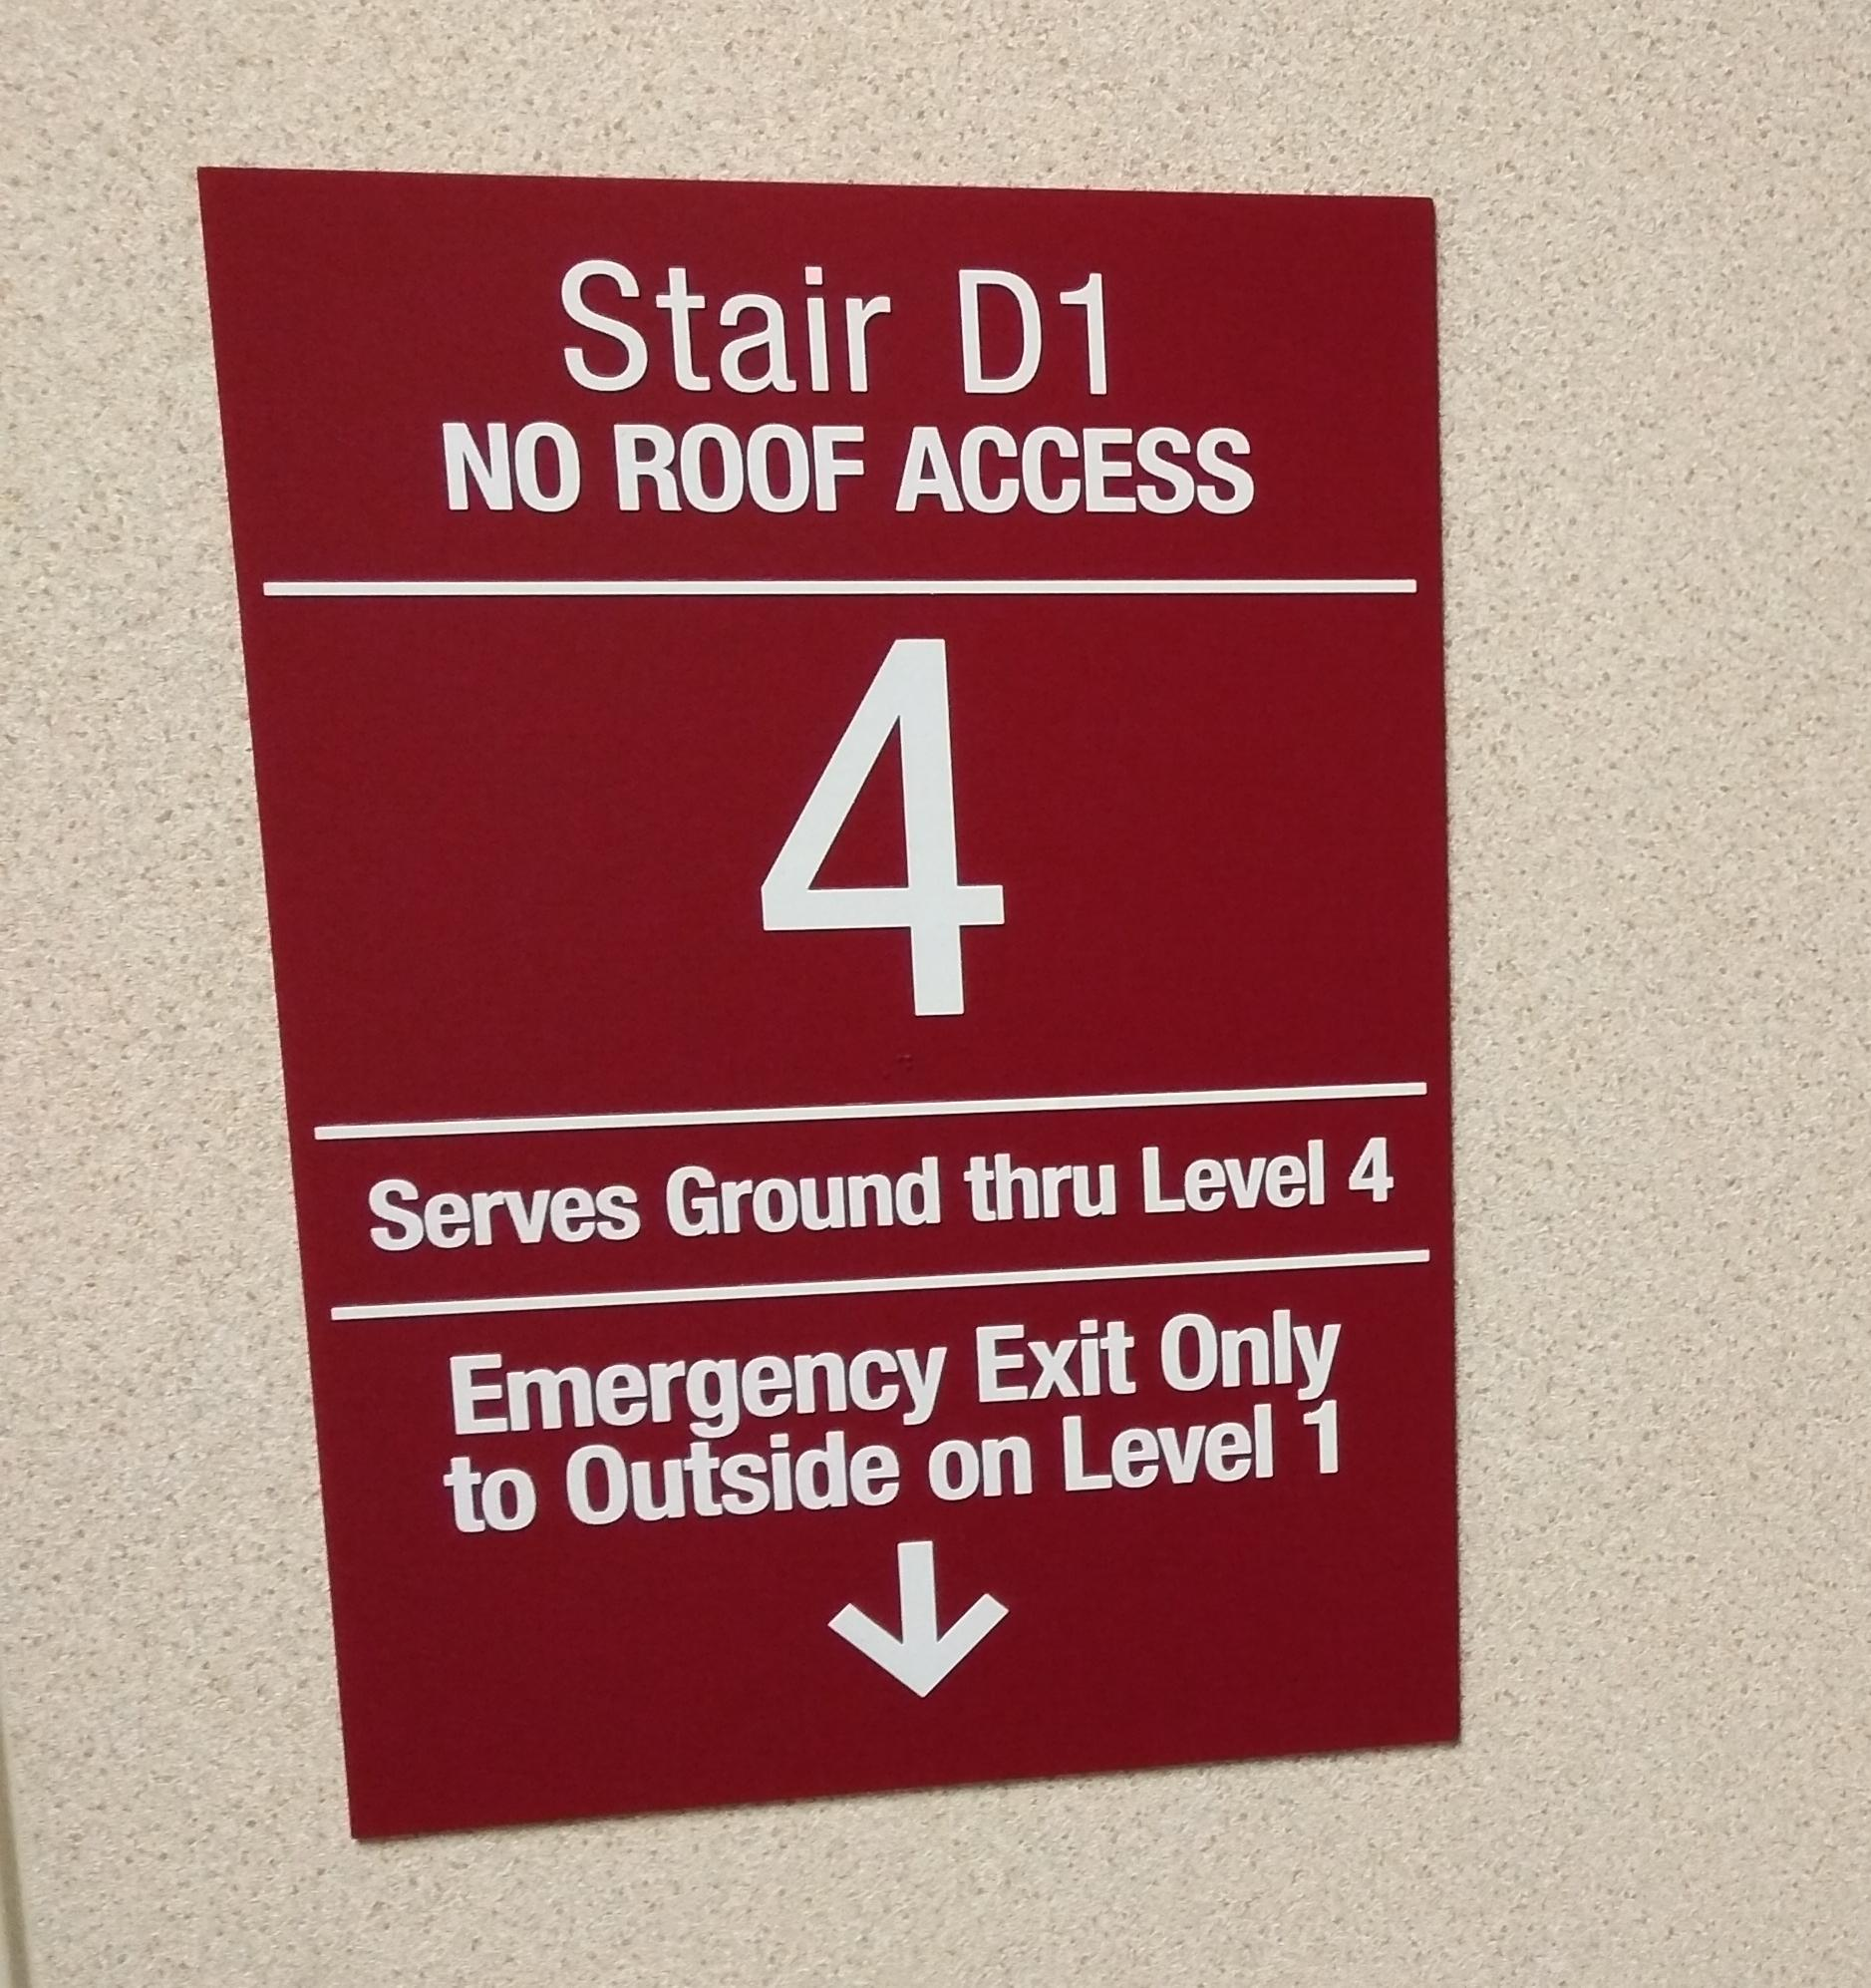sign: (202, 167, 1460, 1837)
